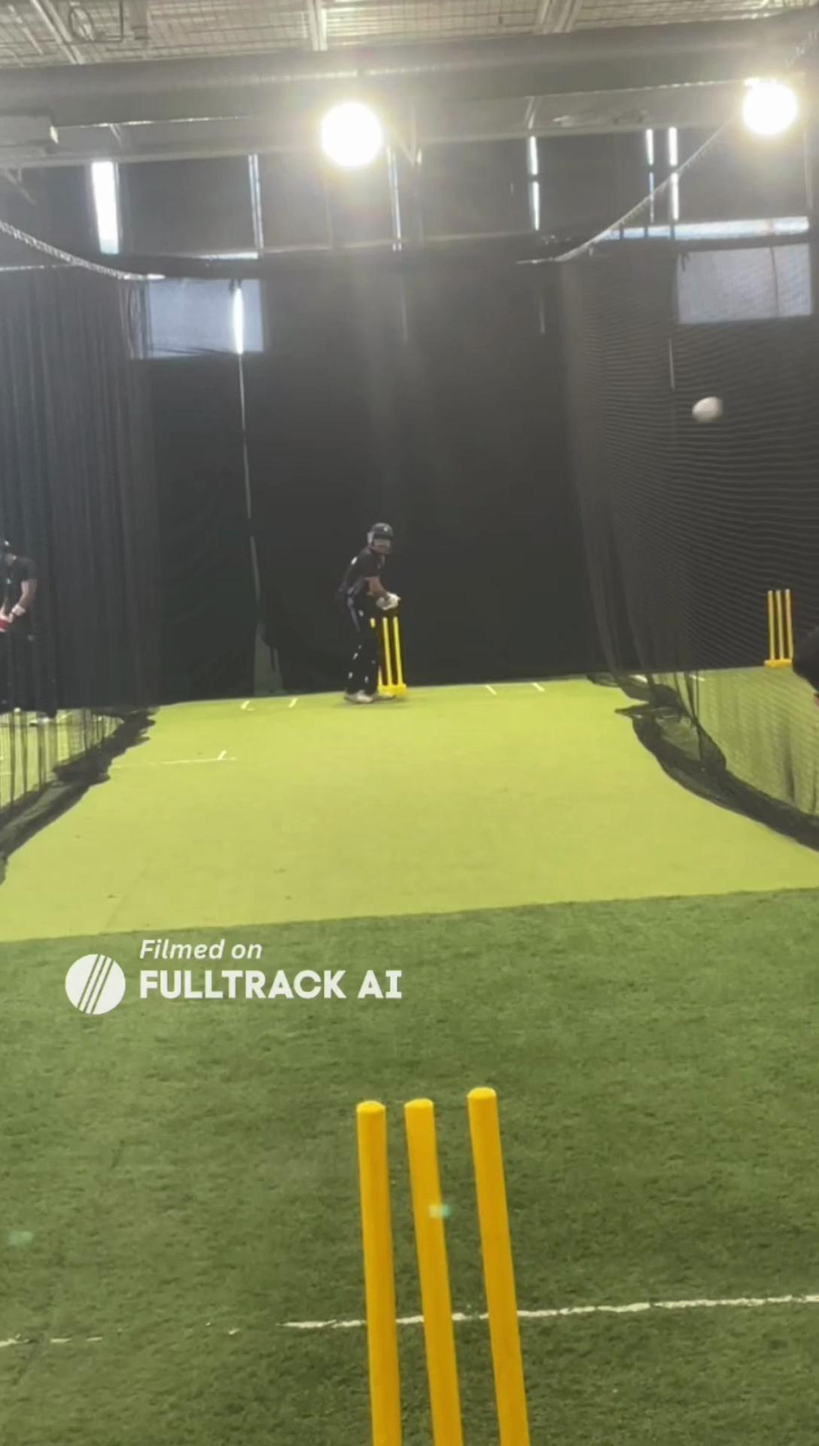ball: (689, 392, 725, 427)
